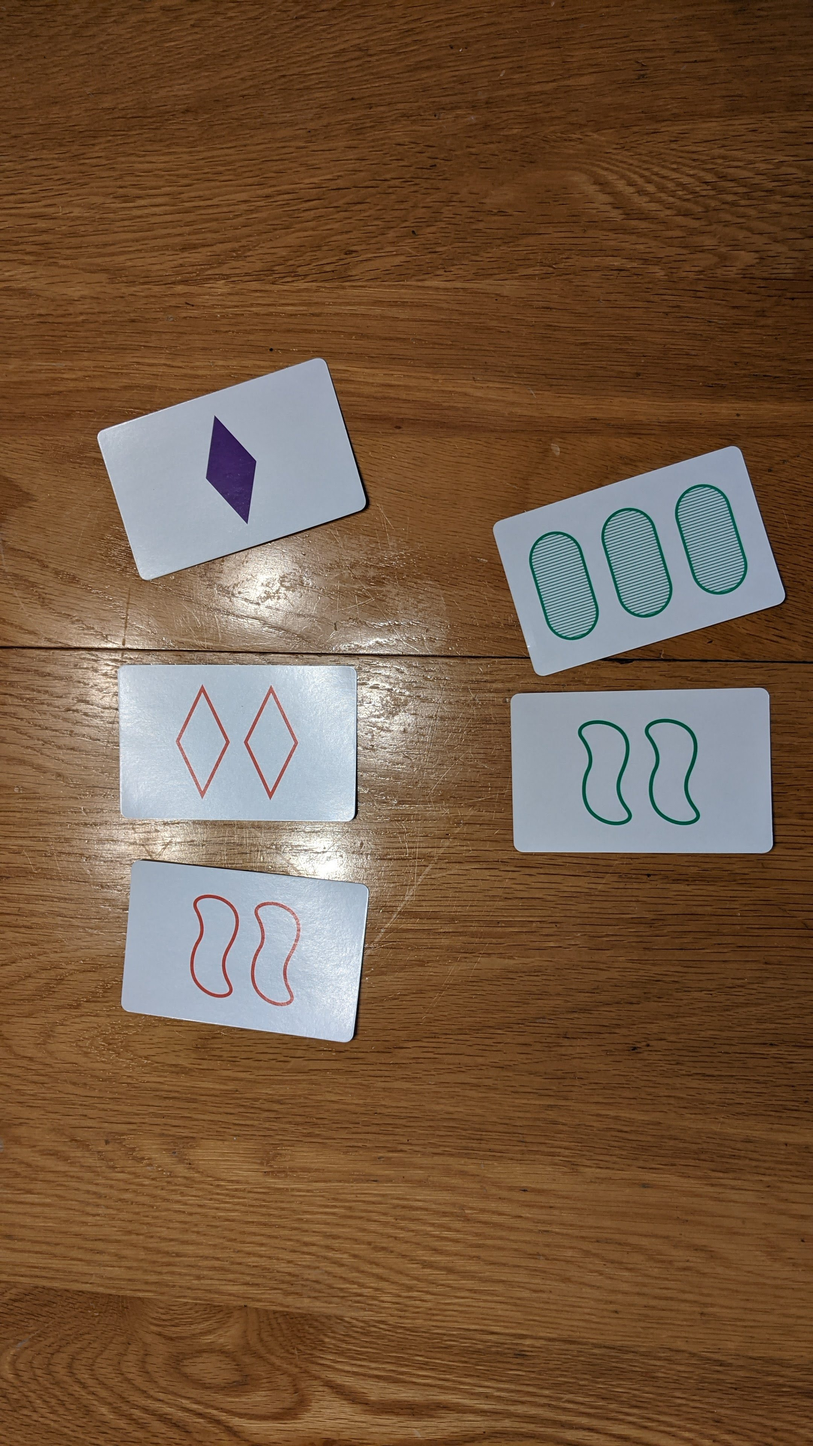card: (493, 444, 787, 676), (96, 358, 367, 580), (120, 859, 369, 1044), (510, 688, 774, 857), (118, 664, 359, 824)
